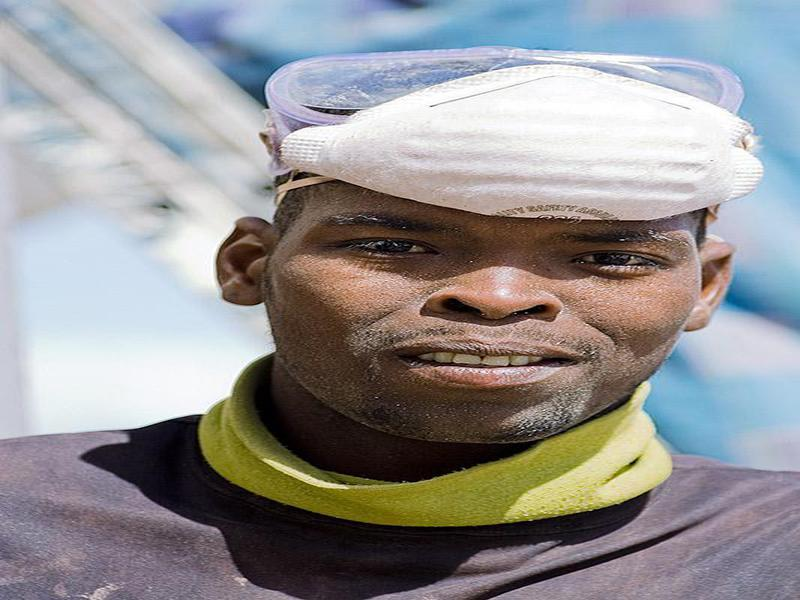person: (14, 48, 800, 600)
